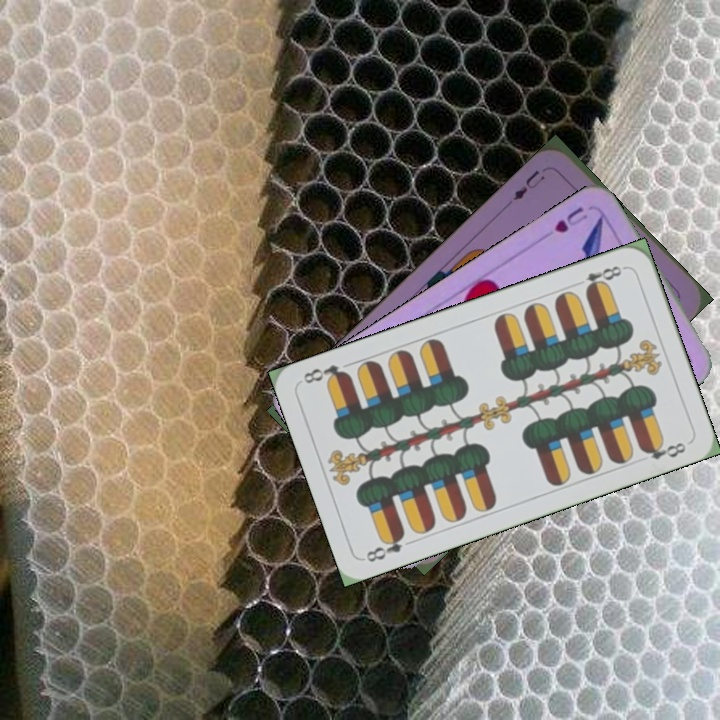E8: (571, 261, 628, 295), (362, 528, 408, 565)
EU: (509, 165, 548, 203)
HU: (550, 202, 591, 236)
